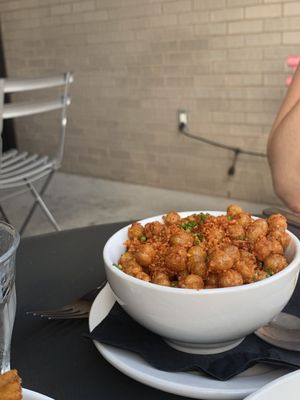burger: (25, 280, 107, 320)
pizza: (0, 199, 21, 378)
sushi: (103, 206, 300, 354)
